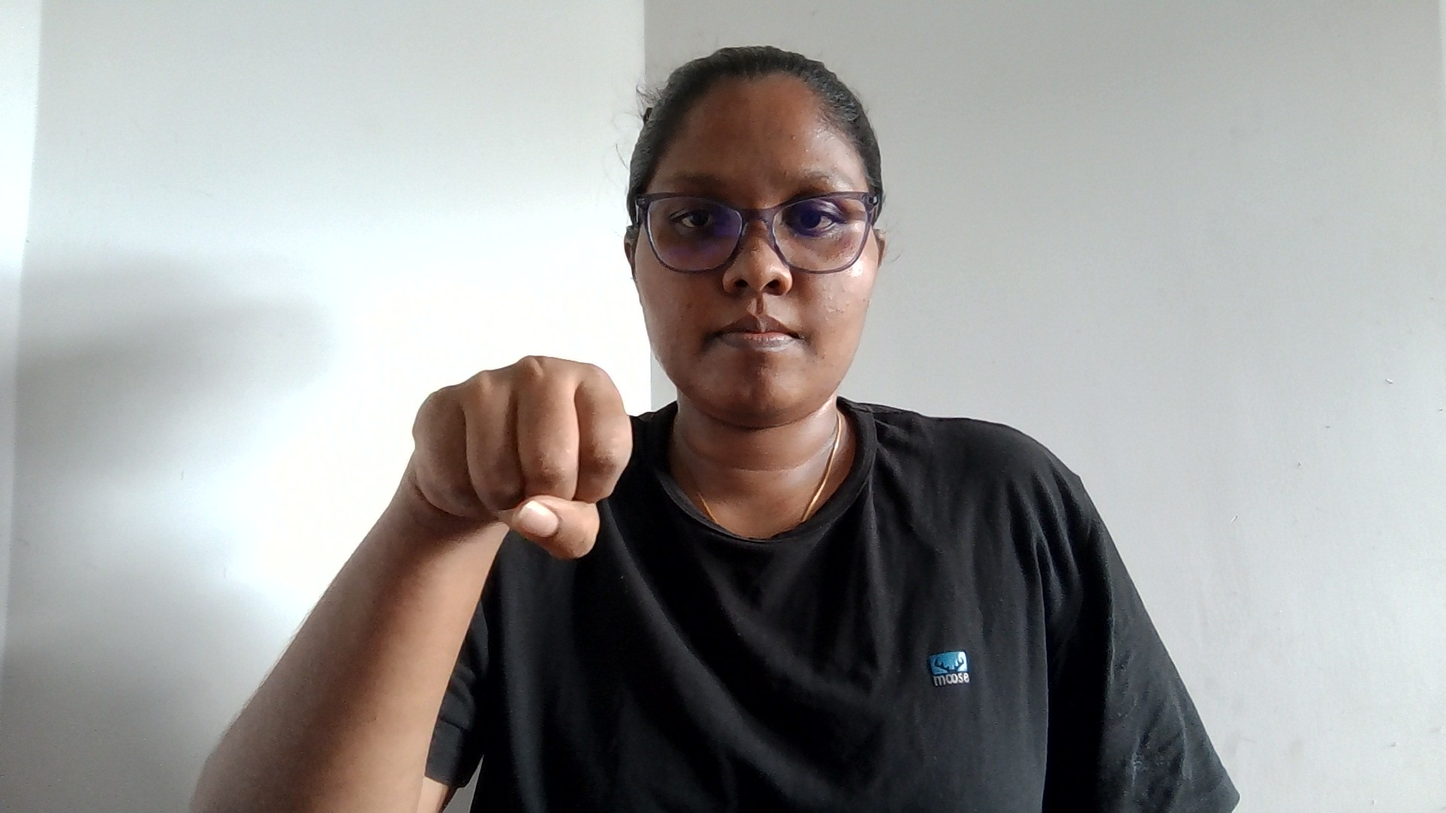Yes: (367, 314, 632, 616)
